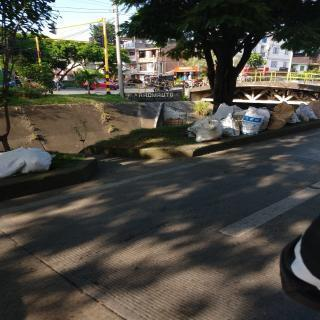Garbage: (241, 107, 273, 135), (189, 119, 226, 142), (268, 102, 295, 131), (219, 114, 242, 137), (295, 102, 317, 121)
